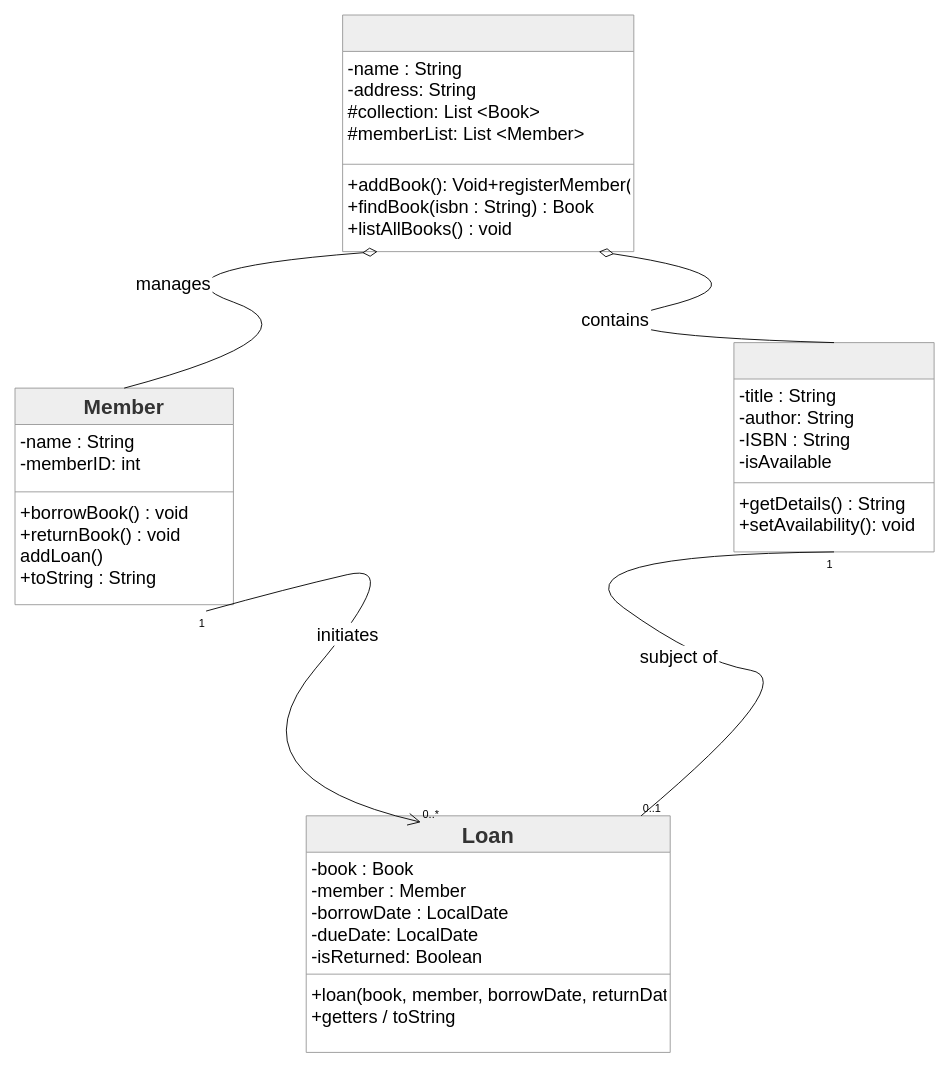
This 949x1067 diagram has some shape labels left out. The shapes that lost their labels are listed below. From the top down, each one's box as (x1, y1, x2, y2) in pixels, then its label:
(342, 14, 634, 252): Library
(733, 342, 934, 552): Book
